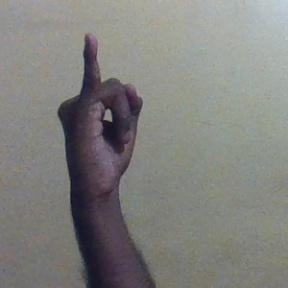I: (59, 32, 144, 190)
